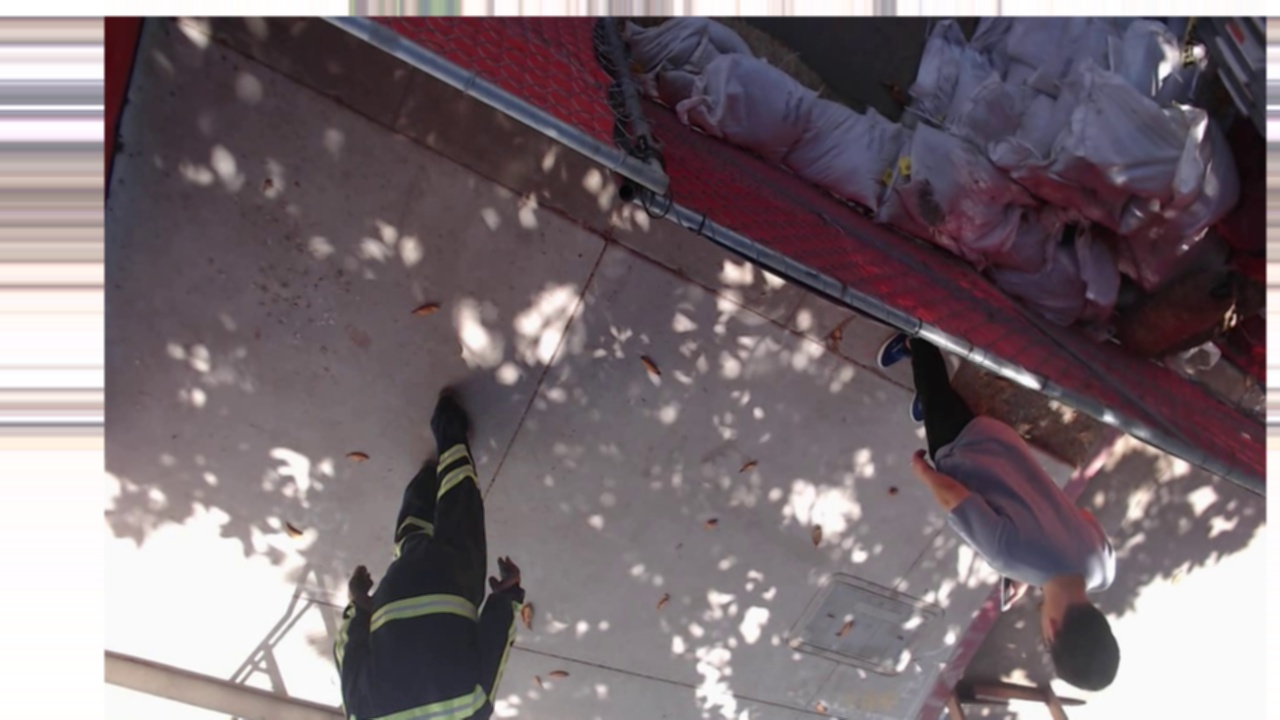person: (330, 381, 522, 719), (873, 435, 1119, 691)
